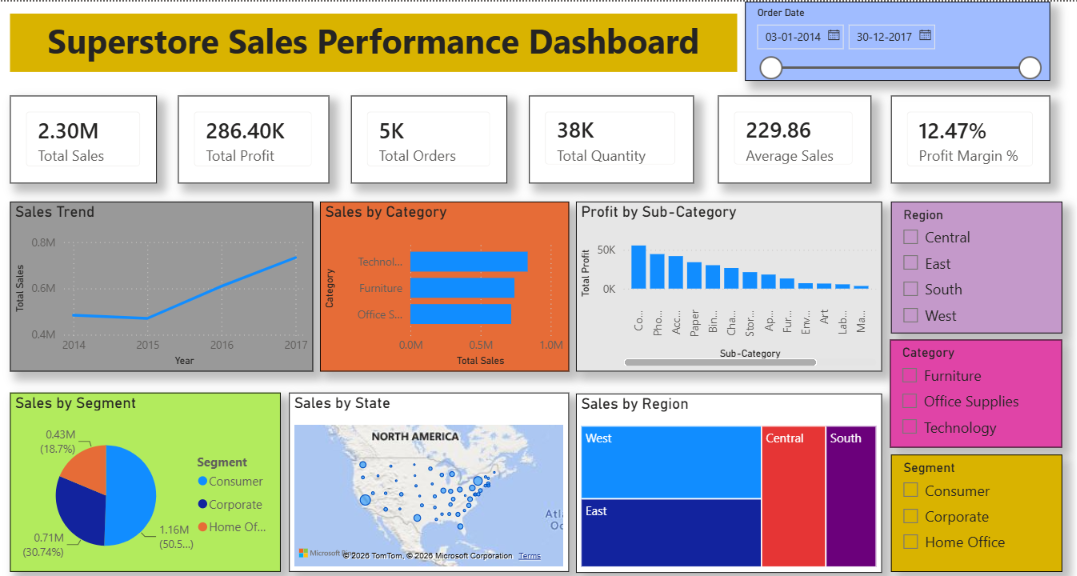

The page's visual inventory and layout, read from the dashboard file:
{"tool":"powerbi","page":{"name":"Page 1","canvas":[1280,720],"ordinal":0},"visuals":[{"type":"cardVisual","fields":{"Data":["Orders.Total Sales"]},"box":[11.1,104.4,163.3,97.8],"z":0},{"type":"textbox","box":[11.1,13.3,807.8,64.4],"z":1},{"type":"cardVisual","fields":{"Data":["Orders.Total Profit"]},"box":[197.8,104.4,167.8,97.8],"z":2},{"type":"cardVisual","fields":{"Data":["Orders.Total Orders"]},"box":[390,104.4,173.3,97.8],"z":3},{"type":"cardVisual","fields":{"Data":["Orders.Total Quantity"]},"box":[587.8,104.4,183.3,97.8],"z":4},{"type":"cardVisual","fields":{"Data":["Orders.Average Sales"]},"box":[797.8,104.4,170,97.8],"z":5},{"type":"cardVisual","fields":{"Data":["Orders.Profit Margin %"]},"box":[990,104.4,176.7,97.8],"z":6},{"type":"lineChart","title":"Sales Trend","fields":{"Category":["Orders.Order Date.Variation.Date Hierarchy.Year","Orders.Order Date.Variation.Date Hierarchy.Quarter","Orders.Order Date.Variation.Date Hierarchy.Month","Orders.Order Date.Variation.Date Hierarchy.Day"],"Y":["Orders.Total Sales"]},"box":[11.1,222.2,336.7,188.9],"z":7},{"type":"clusteredBarChart","title":"Sales by Category","fields":{"Category":["Orders.Category"],"Y":["Orders.Total Sales"]},"box":[355.6,222.2,276.7,188.9],"z":8},{"type":"clusteredColumnChart","title":"Profit by Sub-Category","fields":{"Y":["Orders.Total Profit"],"Category":["Orders.Sub-Category"]},"box":[640,222.2,340,188.9],"z":9},{"type":"pieChart","title":"Sales by Segment","fields":{"Y":["Orders.Total Sales"],"Category":["Orders.Segment"]},"box":[11.1,434.4,301.1,198.9],"z":10},{"type":"map","title":"Sales by State","fields":{"Category":["Orders.State"],"Size":["Orders.Total Sales"]},"box":[321.1,434.4,311.1,198.9],"z":11},{"type":"treemap","title":"Sales by Region","fields":{"Group":["Orders.Region"],"Values":["Orders.Total Sales"]},"box":[640,435.6,340,198.9],"z":12},{"type":"slicer","fields":{"Values":["Orders.Region"]},"box":[990,222.2,190,146.7],"z":13},{"type":"slicer","fields":{"Values":["Orders.Category"]},"box":[988.9,375.6,191.1,120],"z":14},{"type":"slicer","fields":{"Values":["Orders.Segment"]},"box":[990,503.3,190,130],"z":15},{"type":"slicer","fields":{"Values":["Orders.Order Date"]},"box":[827.8,0,338.9,87.8],"z":16}]}

Visuals, with their boxes on the page's 1280x720 design canvas (x1, y1, x2, y2). These are canvas units, not pixel positions in the 1077x576 screenshot, which may show the page scaled, cropped or inside an application window:
cardVisual - Orders.Total Sales: bbox=(11, 104, 174, 202)
textbox: bbox=(11, 13, 819, 78)
cardVisual - Orders.Total Profit: bbox=(198, 104, 366, 202)
cardVisual - Orders.Total Orders: bbox=(390, 104, 563, 202)
cardVisual - Orders.Total Quantity: bbox=(588, 104, 771, 202)
cardVisual - Orders.Average Sales: bbox=(798, 104, 968, 202)
cardVisual - Orders.Profit Margin %: bbox=(990, 104, 1167, 202)
"Sales Trend" lineChart: bbox=(11, 222, 348, 411)
"Sales by Category" clusteredBarChart: bbox=(356, 222, 632, 411)
"Profit by Sub-Category" clusteredColumnChart: bbox=(640, 222, 980, 411)
"Sales by Segment" pieChart: bbox=(11, 434, 312, 633)
"Sales by State" map: bbox=(321, 434, 632, 633)
"Sales by Region" treemap: bbox=(640, 436, 980, 634)
slicer - Orders.Region: bbox=(990, 222, 1180, 369)
slicer - Orders.Category: bbox=(989, 376, 1180, 496)
slicer - Orders.Segment: bbox=(990, 503, 1180, 633)
slicer - Orders.Order Date: bbox=(828, 0, 1167, 88)
